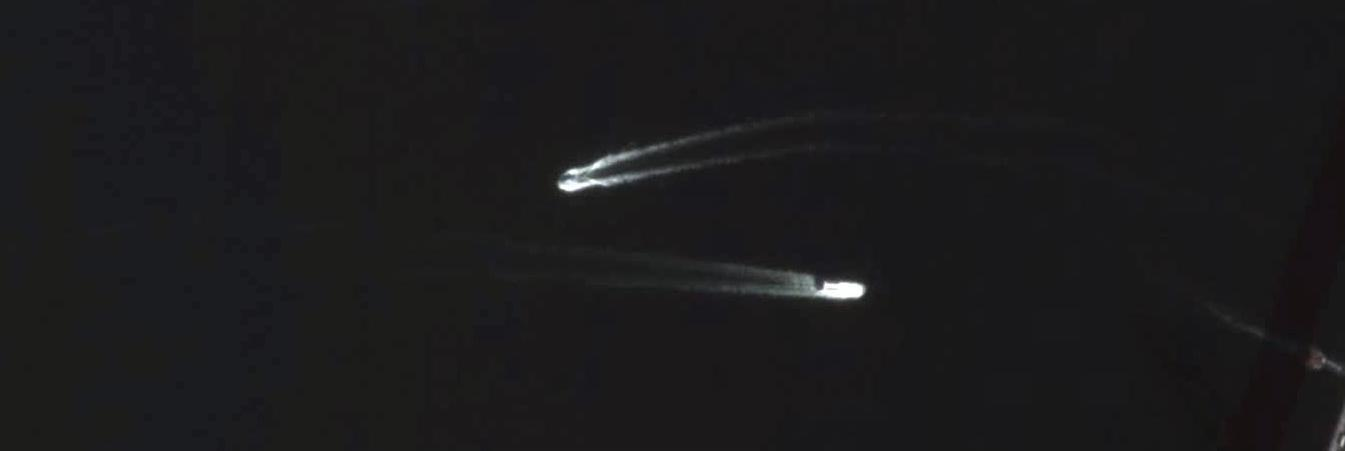person: (823, 282, 865, 299), (1312, 353, 1340, 373), (559, 174, 579, 185)
